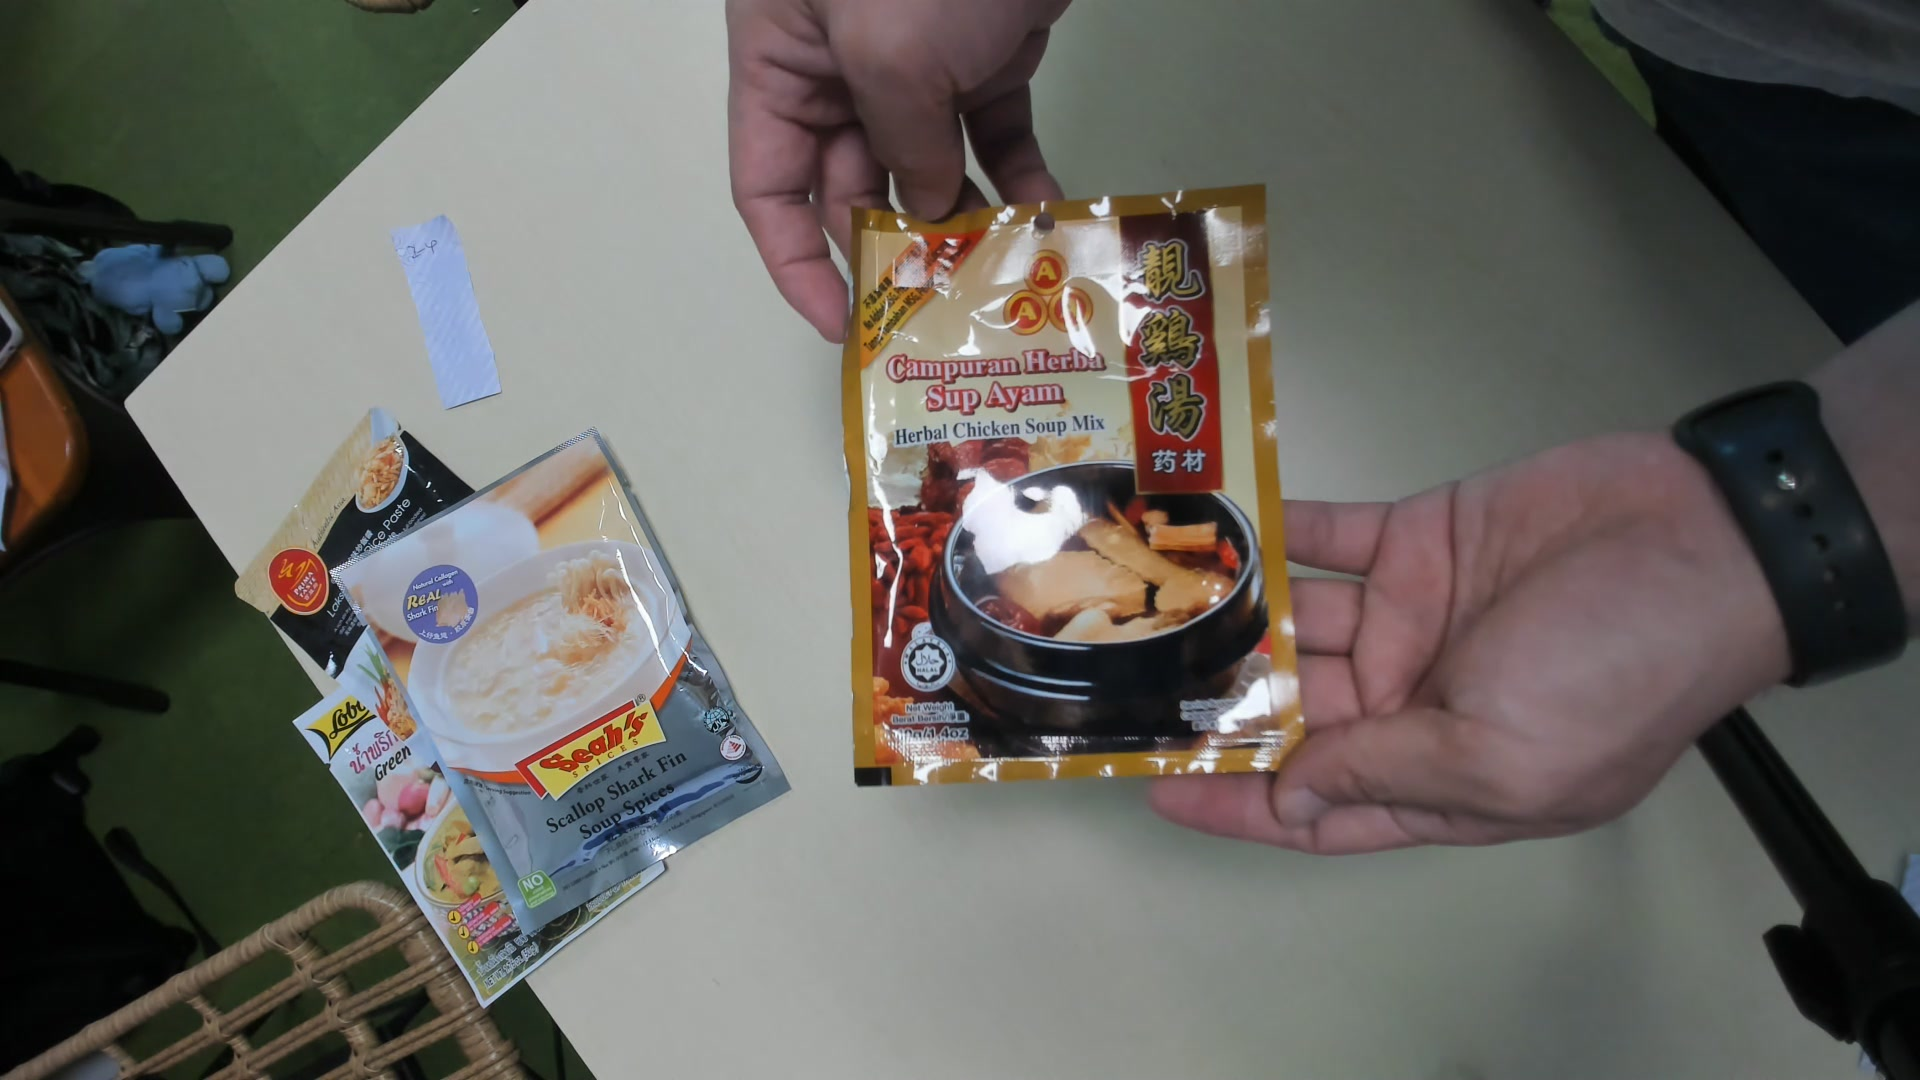OtherSauceDressing_0-99g_Halal_NonHealthy: (843, 200, 1303, 790)
